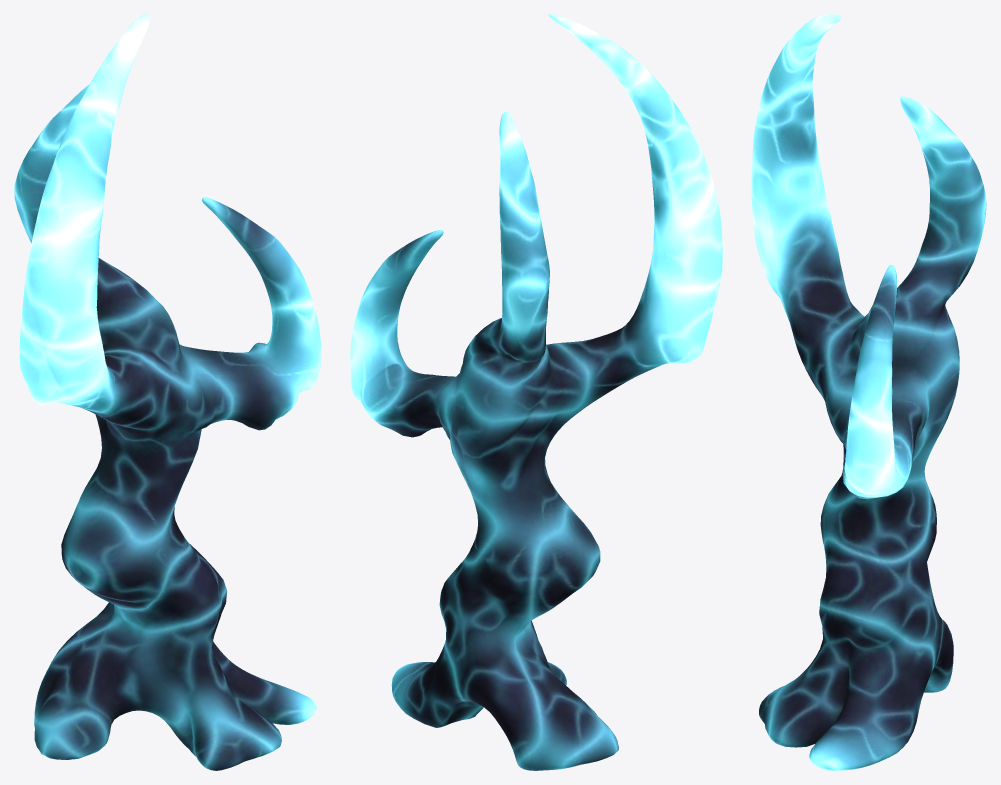
File: caos_sts_clawplant_01c_v35.glb
3 views of the same model, side by side, from view 1: azimuth 30°, elevation 25°; view 2: azimuth 150°, elevation 25°; view 3: azimuth 270°, elevation 25° (orthographic). The views are drawn at different scales.
Visible parts, largest first — view 1: caos_sts_clawplant_01c; view 2: caos_sts_clawplant_01c; view 3: caos_sts_clawplant_01c.
Part boxes in pixels (x1,y1,x2,y2): caos_sts_clawplant_01c: (14,14,321,770); caos_sts_clawplant_01c: (350,14,722,770); caos_sts_clawplant_01c: (751,14,986,770).
Bounding box in the file's own units: 2.82 × 5.97 × 1.85.
Materials: 1 (1 with a texture image).
